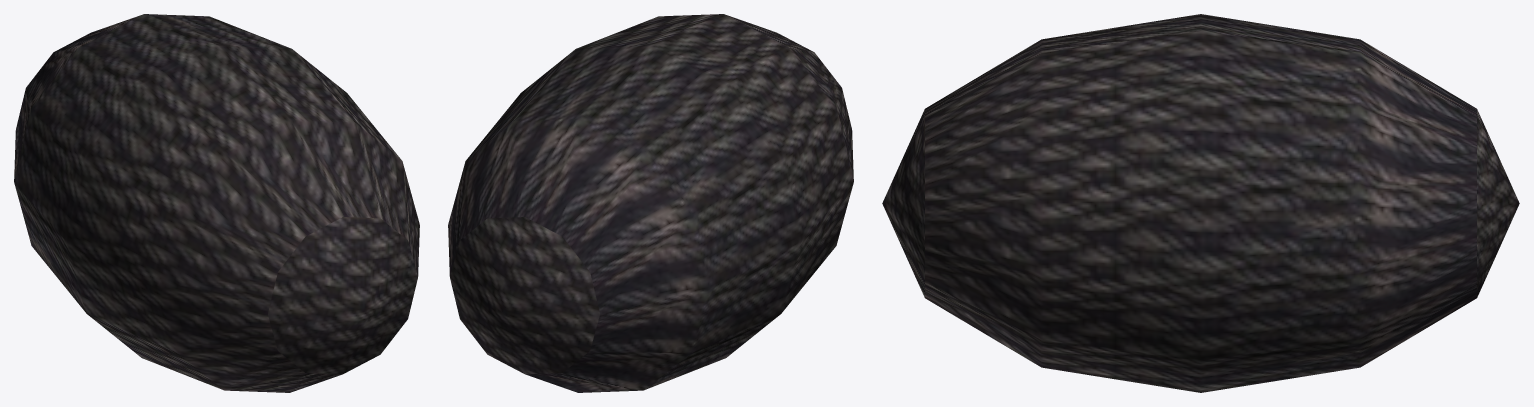
The model's file is Mouse.fbx.
3 views of the same model, side by side, from view 1: azimuth 30°, elevation 25°; view 2: azimuth 150°, elevation 25°; view 3: azimuth 270°, elevation 25° (orthographic). The views are drawn at different scales.
Parts seen in each view (by area): view 1: mouse; view 2: mouse; view 3: mouse.
Part boxes in pixels (x1,y1,x2,y2): mouse: (14, 14, 419, 392); mouse: (448, 14, 853, 392); mouse: (882, 14, 1519, 392).
Size of the model in its own units: 25.46 by 42.66 by 25.46.
Materials: 1 (1 with a texture image).
